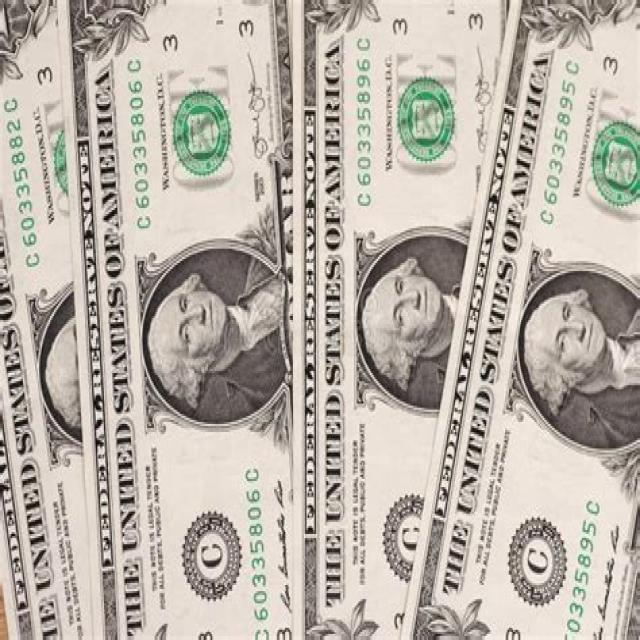One: (398, 0, 640, 638), (56, 0, 294, 640), (286, 0, 522, 638), (0, 0, 96, 638)
